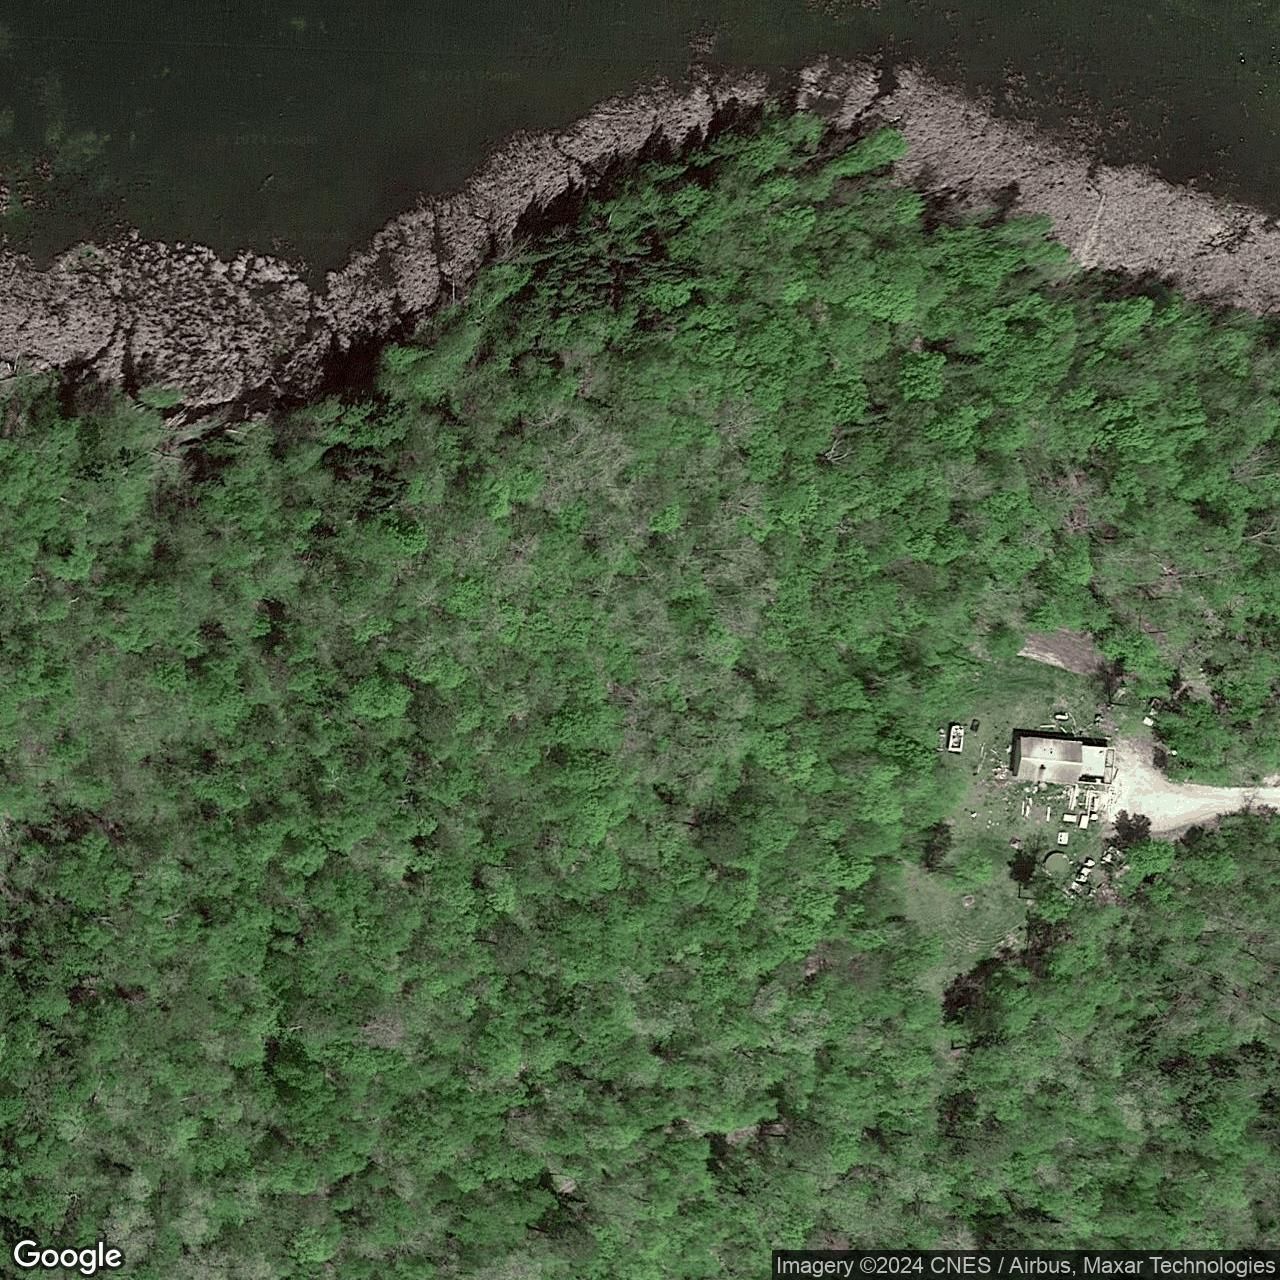House: (1012, 736, 1084, 787)
Propane: (1053, 712, 1070, 722)
